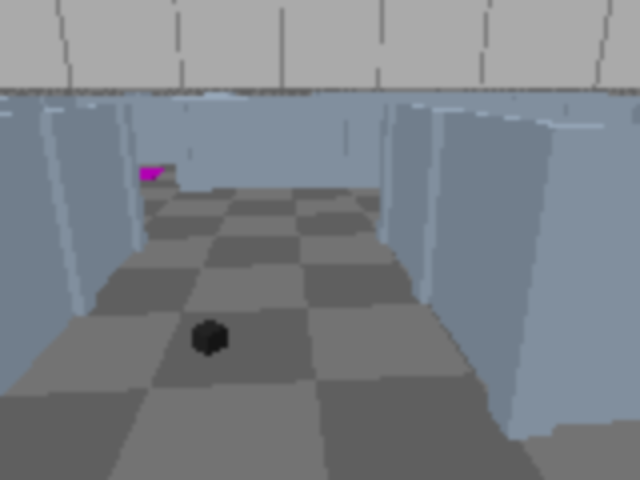puck: (190, 320, 228, 356)
